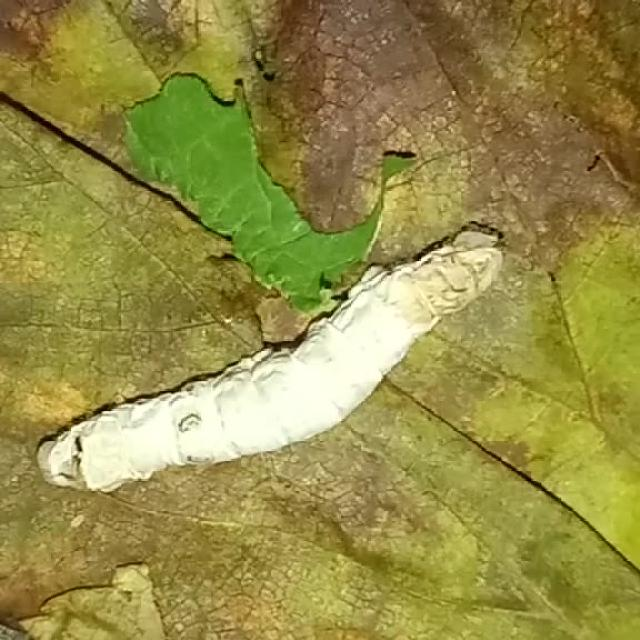Grasserie: (34, 213, 522, 508)
